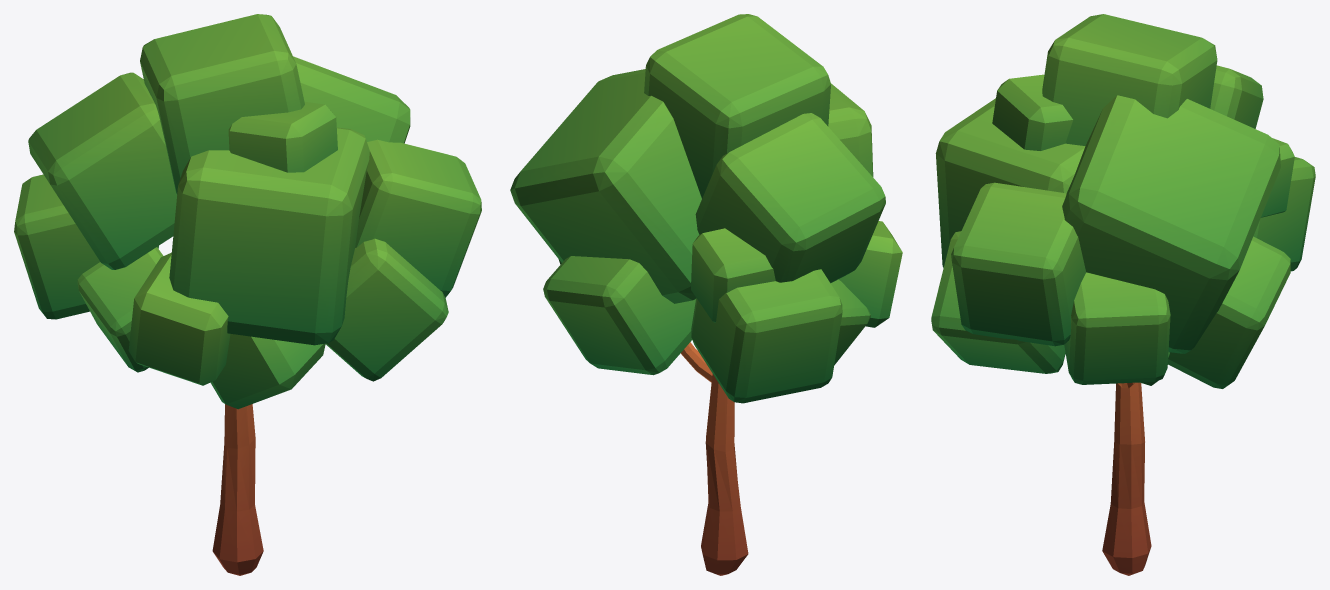
Rendered from kf_tree_2_e.fbx.
3 views of the same model, side by side, from view 1: azimuth 30°, elevation 25°; view 2: azimuth 150°, elevation 25°; view 3: azimuth 270°, elevation 25° (orthographic).
Visible parts, largest first — view 1: kf_tree_2_e_LOD0; view 2: kf_tree_2_e_LOD0; view 3: kf_tree_2_e_LOD0.
Part boxes in pixels (x1,y1,x2,y2): kf_tree_2_e_LOD0: (14,14,481,575); kf_tree_2_e_LOD0: (510,14,902,575); kf_tree_2_e_LOD0: (931,14,1315,575).
Size of what is drawn, in the model's own units: 6.96 by 10.11 by 6.53.
